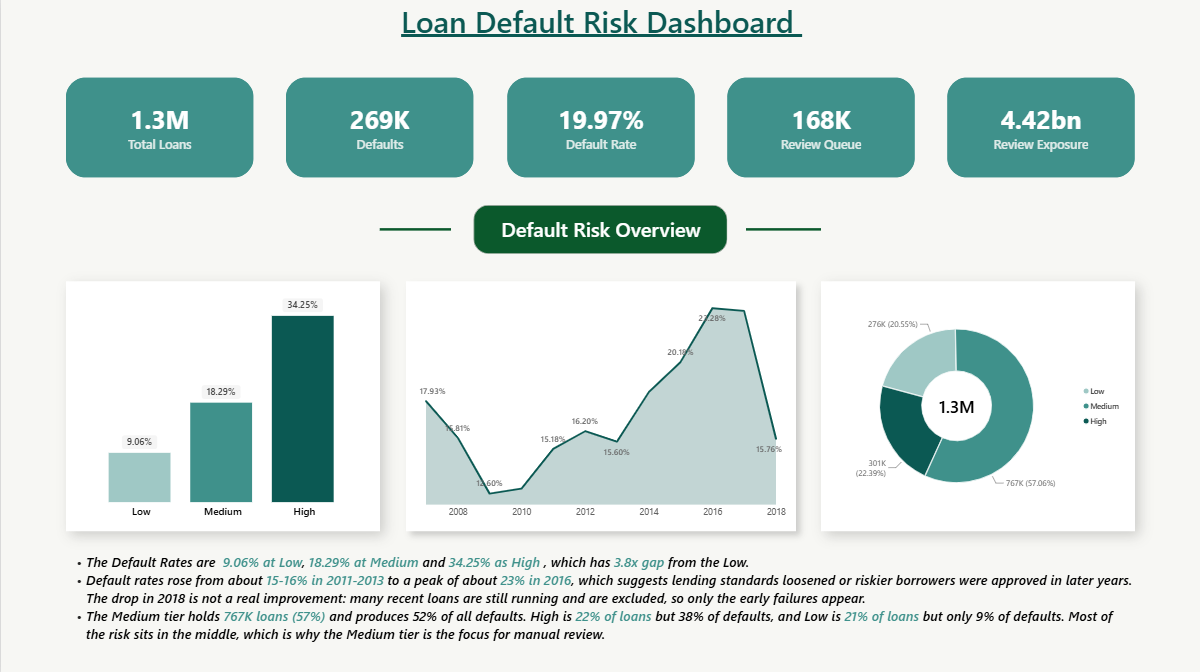

This screenshot's page, from the dashboard's own definition file:
{"tool":"powerbi","page":{"name":"Overview","canvas":[1920,1080],"ordinal":0},"visuals":[{"type":"textbox","box":[430,0,1062,74],"z":0},{"type":"cardVisual","fields":{"Data":["public loan_scored.Total Loans"]},"box":[104,124,300,160],"z":0,"group":"g1"},{"type":"group","id":"g1","title":"Group 1","box":[104,124,1710,160],"z":1000},{"type":"cardVisual","fields":{"Data":["public loan_scored.Defaults"]},"box":[456.5,124,300,160],"z":1000,"group":"g1"},{"type":"cardVisual","fields":{"Data":["public loan_scored.Default Rate"]},"box":[809,124.7,300,160],"z":2000,"group":"g1"},{"type":"clusteredColumnChart","fields":{"Category":["public loan_scored.risk_tier"],"Y":["public loan_scored.Default Rate"]},"box":[104,450,502,400],"z":2000},{"type":"cardVisual","fields":{"Data":["public loan_scored.Review Queue"]},"box":[1161.5,124,300,160],"z":3000,"group":"g1"},{"type":"donutChart","fields":{"Category":["public loan_scored.risk_tier"],"Y":["public loan_scored.Total Loans"]},"box":[1312,450,502,400],"z":3000},{"type":"cardVisual","fields":{"Data":["public loan_scored.Review Exposure"]},"box":[1514,124,300,160],"z":4000,"group":"g1"},{"type":"lineChart","fields":{"Category":["public loan_scored.issue_year"],"Y":["public loan_scored.Default Rate"]},"box":[648,450,624,400],"z":4000},{"type":"shape","box":[756,328,406,78],"z":5000},{"type":"textbox","box":[784,344,352,48],"z":6000},{"type":"shape","box":[606,328,114,78],"z":7000},{"type":"shape","box":[1192,328,120,78],"z":8000},{"type":"textbox","box":[104,884,1710,160],"z":9000}]}

Visuals, with their boxes in screenshot pixels (x1, y1, x2, y2), scaled from the page's 1920x1080 canvas onto the 1200x672 screenshot:
textbox: 269, 0, 932, 46
cardVisual - public loan_scored.Total Loans: 65, 77, 252, 177
"Group 1" group: 65, 77, 1134, 177
cardVisual - public loan_scored.Defaults: 285, 77, 473, 177
cardVisual - public loan_scored.Default Rate: 506, 78, 693, 177
clusteredColumnChart - public loan_scored.risk_tier x public loan_scored.Default Rate: 65, 280, 379, 529
cardVisual - public loan_scored.Review Queue: 726, 77, 913, 177
donutChart - public loan_scored.risk_tier x public loan_scored.Total Loans: 820, 280, 1134, 529
cardVisual - public loan_scored.Review Exposure: 946, 77, 1134, 177
lineChart - public loan_scored.issue_year x public loan_scored.Default Rate: 405, 280, 795, 529
shape: 472, 204, 726, 253
textbox: 490, 214, 710, 244
shape: 379, 204, 450, 253
shape: 745, 204, 820, 253
textbox: 65, 550, 1134, 650
